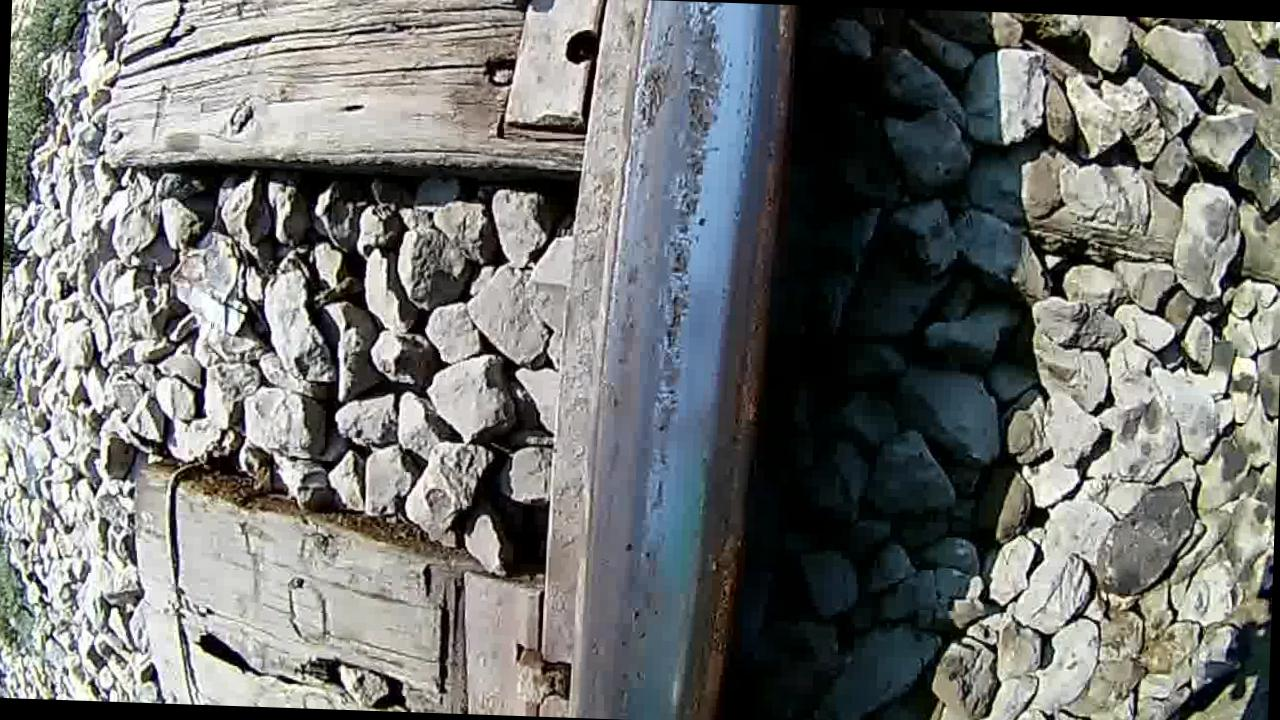crack: (585, 0, 775, 720)
